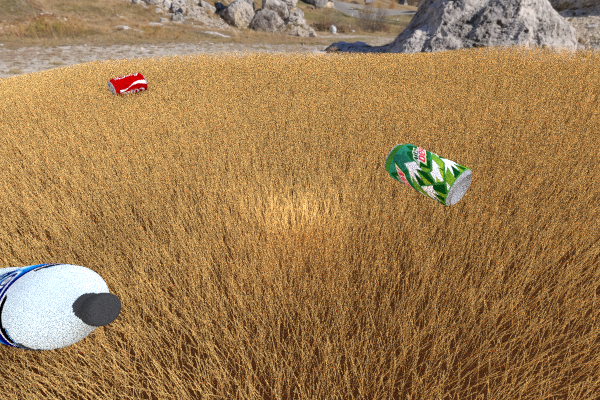bottle: (0, 263, 121, 350)
can: (384, 143, 472, 206), (107, 72, 147, 96)
